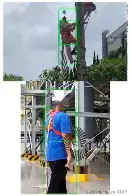safety belt: (47, 111, 67, 138), (60, 20, 77, 44)
